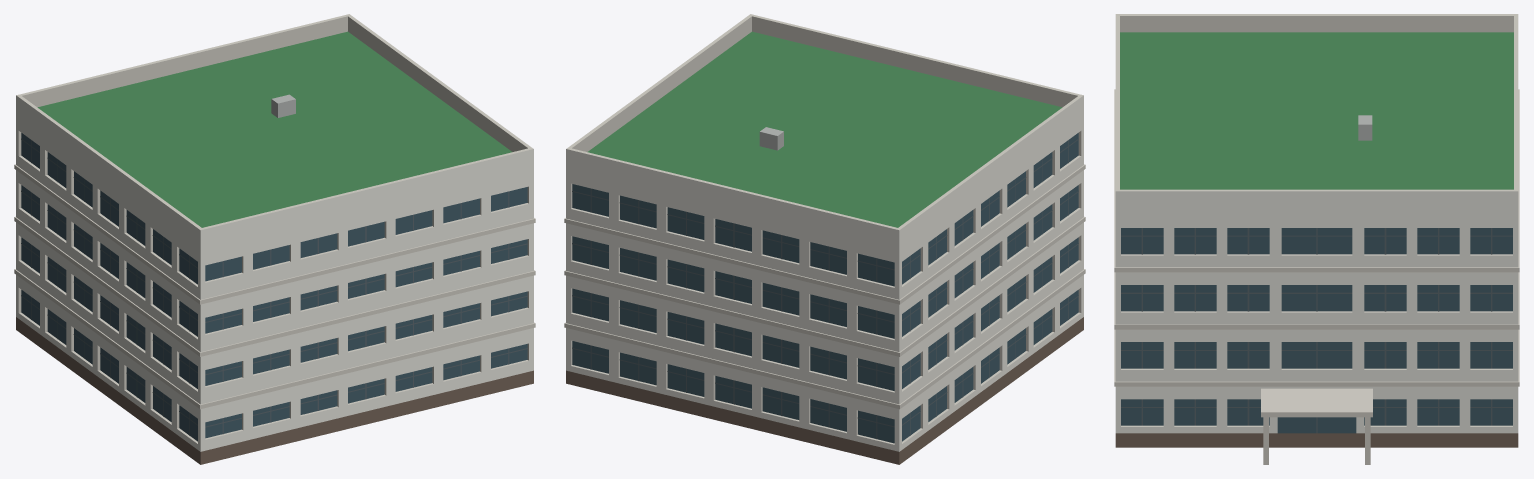
3 views of the same model, side by side, from view 1: azimuth 30°, elevation 25°; view 2: azimuth 150°, elevation 25°; view 3: azimuth 270°, elevation 25° (orthographic). The views are drawn at different scales.
Parts seen in each view (by area): view 1: wing3__wall-plaster, wing3__roof, wing3__glass, wing3__trim-concrete, wing3__base-stone, wing3__frame; view 2: wing3__wall-plaster, wing3__roof, wing3__glass, wing3__trim-concrete, wing3__base-stone, wing3__frame; view 3: wing3__roof, wing3__wall-plaster, wing3__glass, wing3__trim-concrete, wing3__base-stone, wing3__canopy-concrete, wing3__frame.
Boxes of the visible parts, bbox=[...] form: wing3__wall-plaster: bbox=[16, 95, 533, 451]; wing3__roof: bbox=[37, 31, 512, 227]; wing3__glass: bbox=[21, 133, 527, 441]; wing3__trim-concrete: bbox=[14, 14, 535, 443]; wing3__base-stone: bbox=[16, 317, 533, 464]; wing3__frame: bbox=[21, 138, 527, 435]; wing3__wall-plaster: bbox=[566, 95, 1083, 451]; wing3__roof: bbox=[587, 31, 1062, 227]; wing3__glass: bbox=[572, 133, 1078, 443]; wing3__trim-concrete: bbox=[564, 14, 1085, 444]; wing3__base-stone: bbox=[566, 317, 1083, 464]; wing3__frame: bbox=[572, 138, 1078, 439]; wing3__roof: bbox=[1120, 32, 1513, 189]; wing3__wall-plaster: bbox=[1115, 191, 1518, 433]; wing3__glass: bbox=[1121, 228, 1512, 433]; wing3__trim-concrete: bbox=[1114, 14, 1519, 426]; wing3__base-stone: bbox=[1115, 433, 1518, 447]; wing3__canopy-concrete: bbox=[1261, 388, 1372, 464]; wing3__frame: bbox=[1121, 228, 1512, 433].
Bounding box in the file's own units: 27.28 × 16.15 × 23.16.
